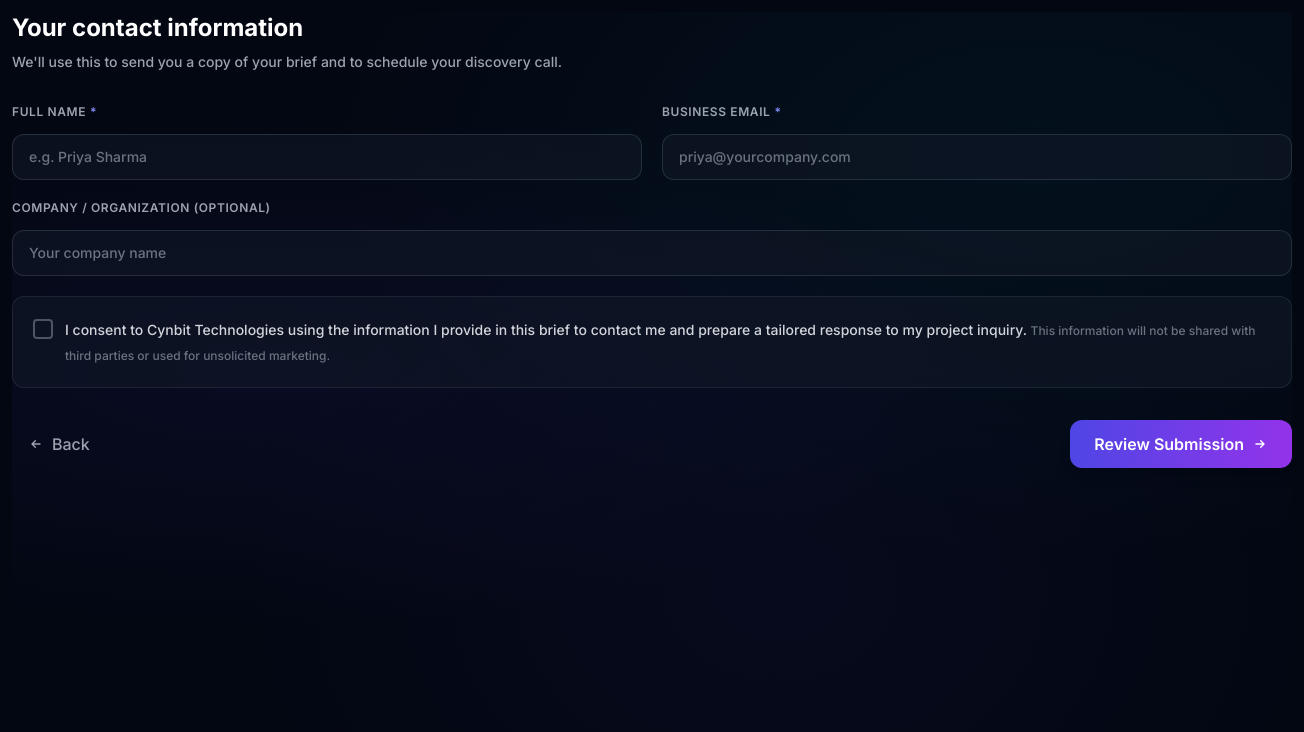
Test: Step4Contact › validates email format
This screenshot has width=1304, height=732.
Type "Test User" into the field labelled "Full Name*" at {"x": 327, "y": 157}, box [12,134,642,180]
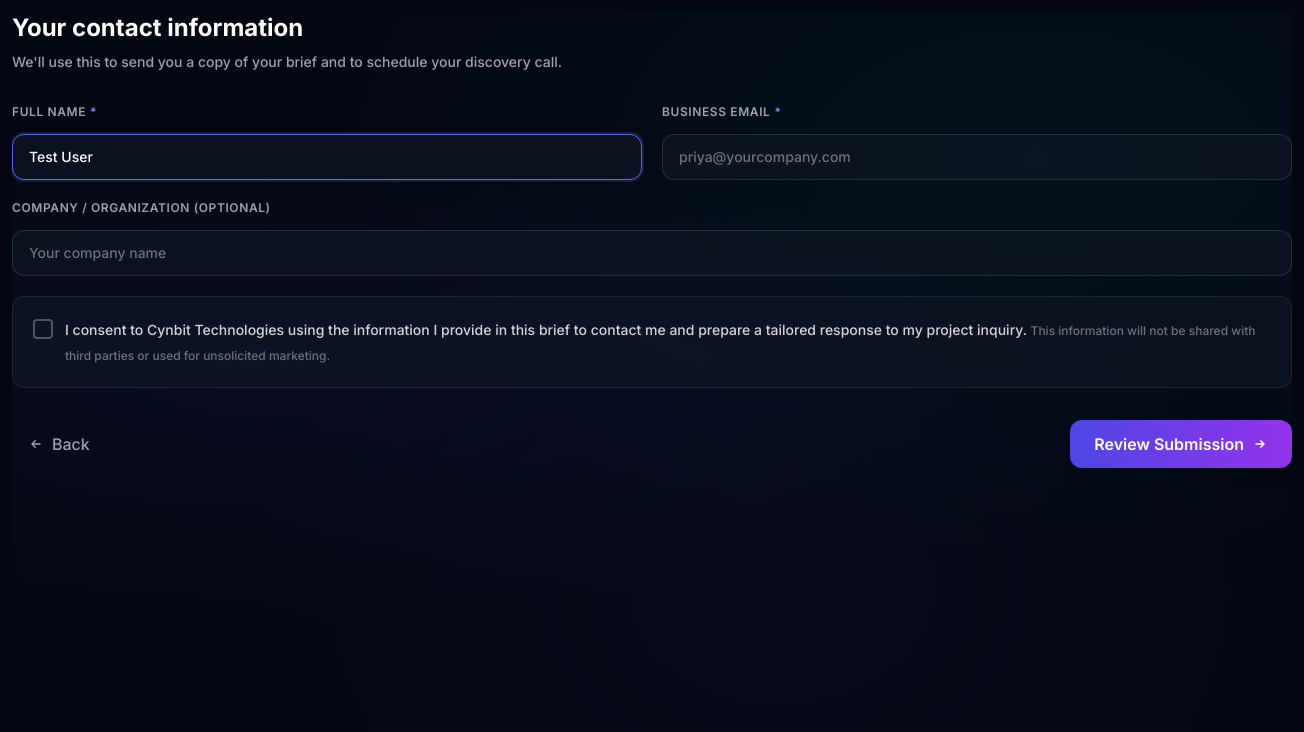
Type "not-an-email" into the field labelled "Business Email*" at {"x": 977, "y": 157}, box [662,134,1292,180]
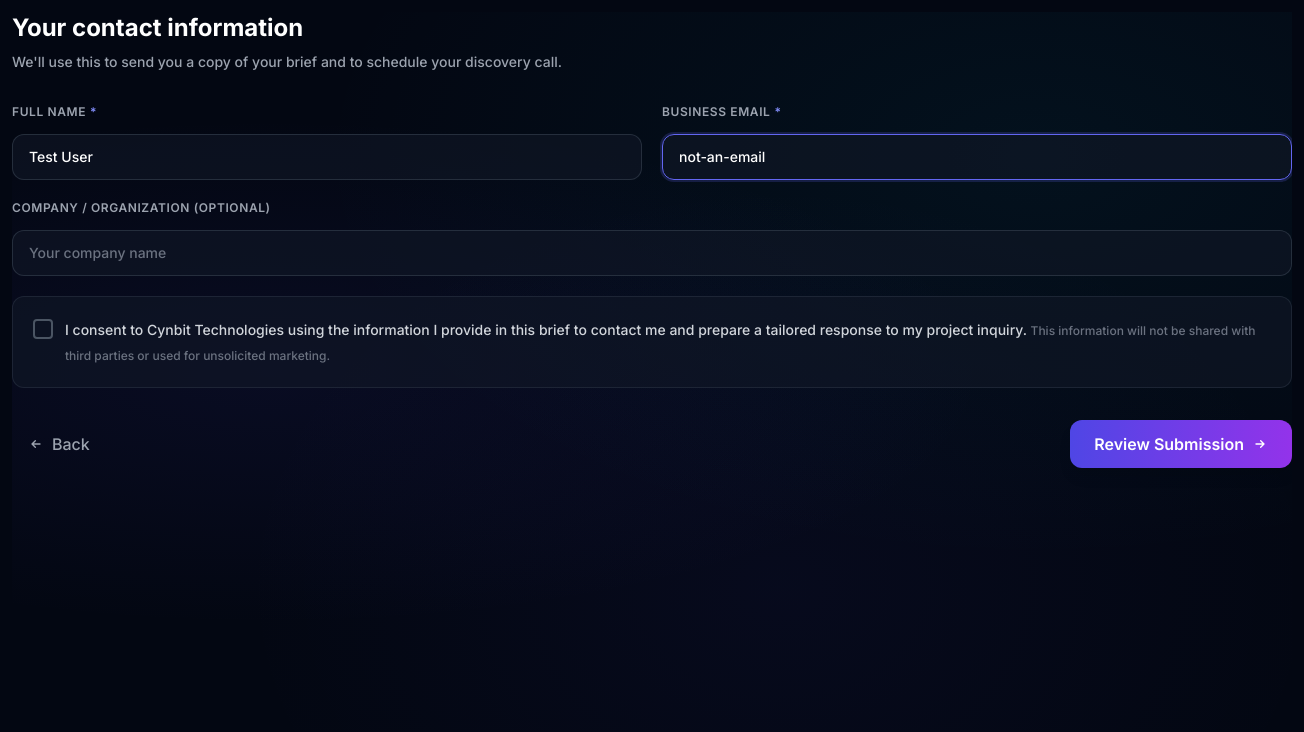
Click the button "Review Submission" at {"x": 1181, "y": 444}, box [1070,420,1292,468]
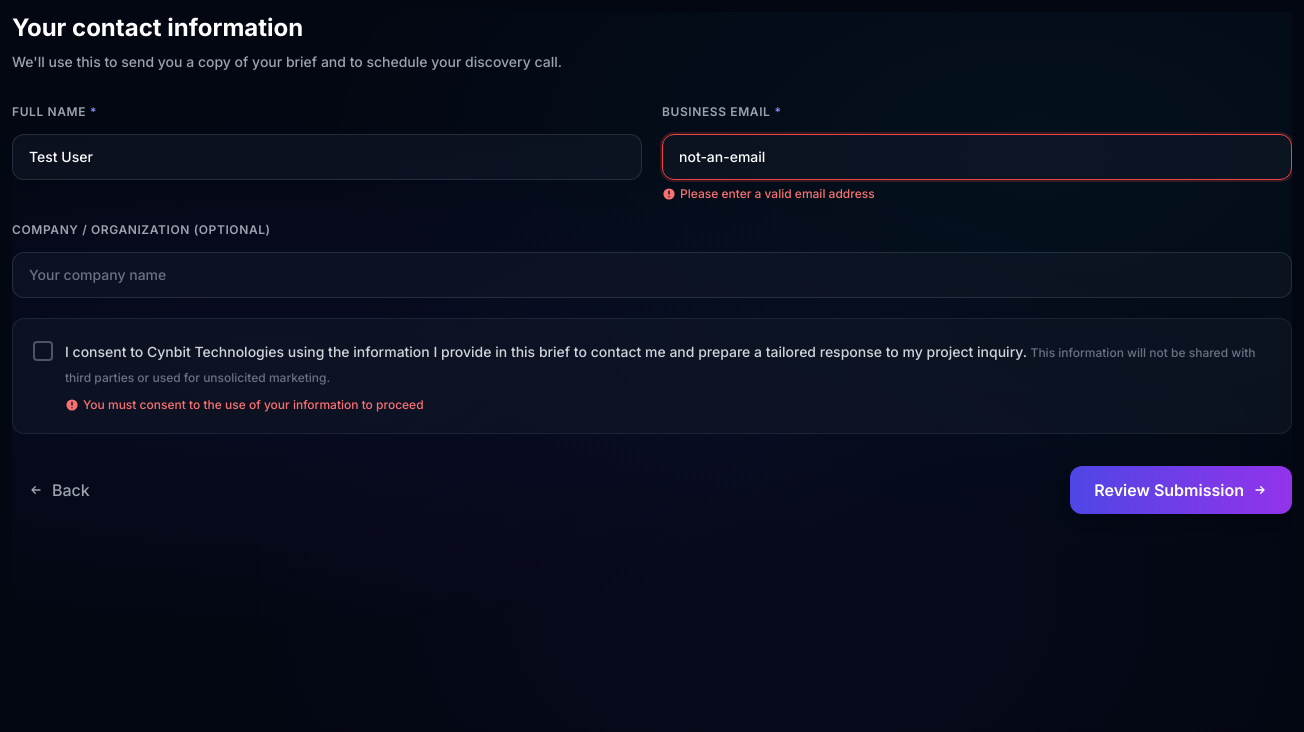
Expected: the text "Please enter a valid email address" is shown, [662,186,875,201]
